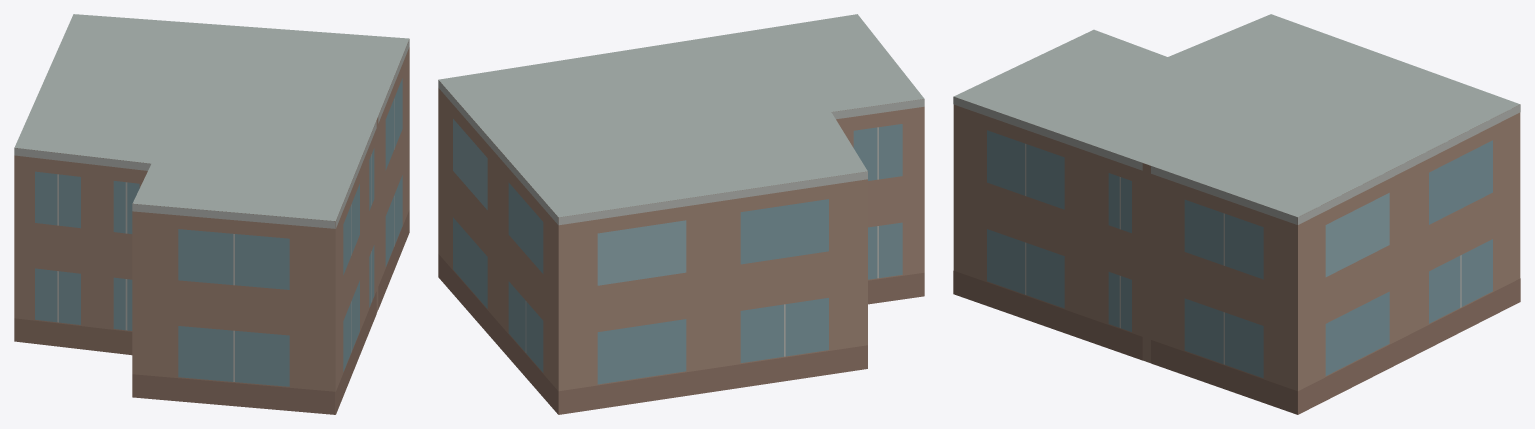
Rendered from survey-upis-32678556.glb.
3 renders of one model, left to right at view 1: azimuth 30°, elevation 25°; view 2: azimuth 150°, elevation 25°; view 3: azimuth 270°, elevation 25°, orthographic. The views are drawn at different scales.
Visible parts, largest first — view 1: survey-upis-32678556.tmp; view 2: survey-upis-32678556.tmp; view 3: survey-upis-32678556.tmp.
Boxes of the visible parts, bbox=[...] form: survey-upis-32678556.tmp: bbox=[14, 14, 409, 414]; survey-upis-32678556.tmp: bbox=[438, 14, 924, 414]; survey-upis-32678556.tmp: bbox=[953, 14, 1520, 414].
Size of the model in its own units: 13.47 by 6.1 by 15.87.
